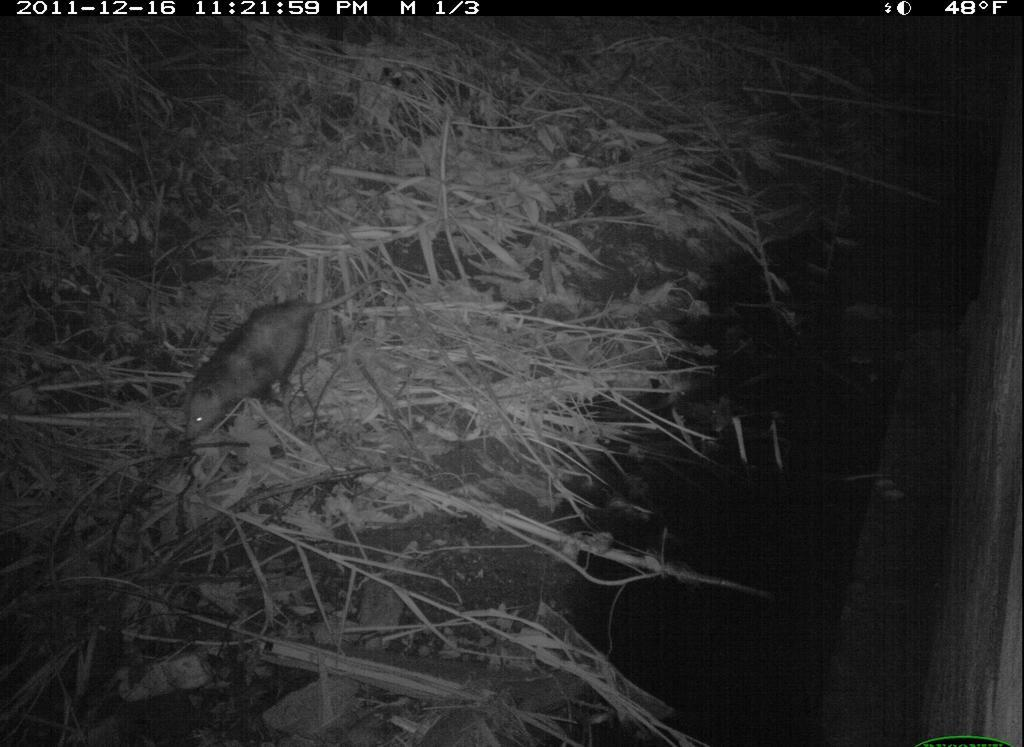opossum: (178, 276, 378, 447)
